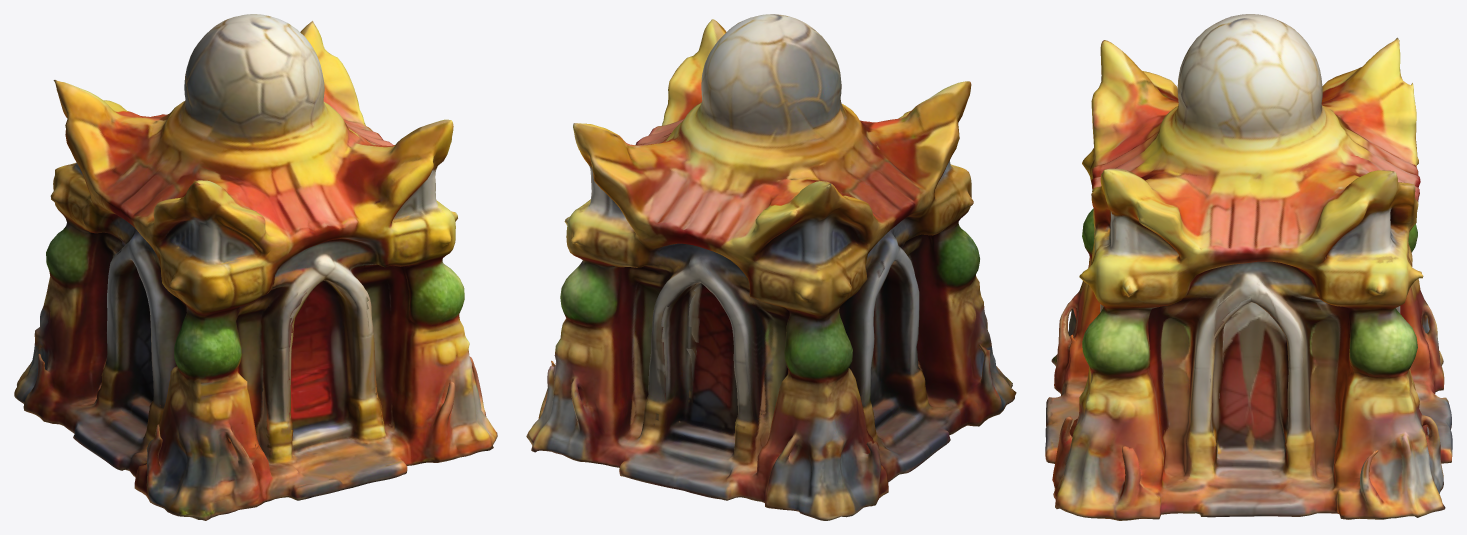
The model's file is townhall.glb.
3 views of the same model, side by side, from view 1: azimuth 30°, elevation 25°; view 2: azimuth 150°, elevation 25°; view 3: azimuth 270°, elevation 25° (orthographic). The views are drawn at different scales.
Size of the model in its own units: 1.77 by 2 by 1.78.
Materials: 1 (1 with a texture image).
